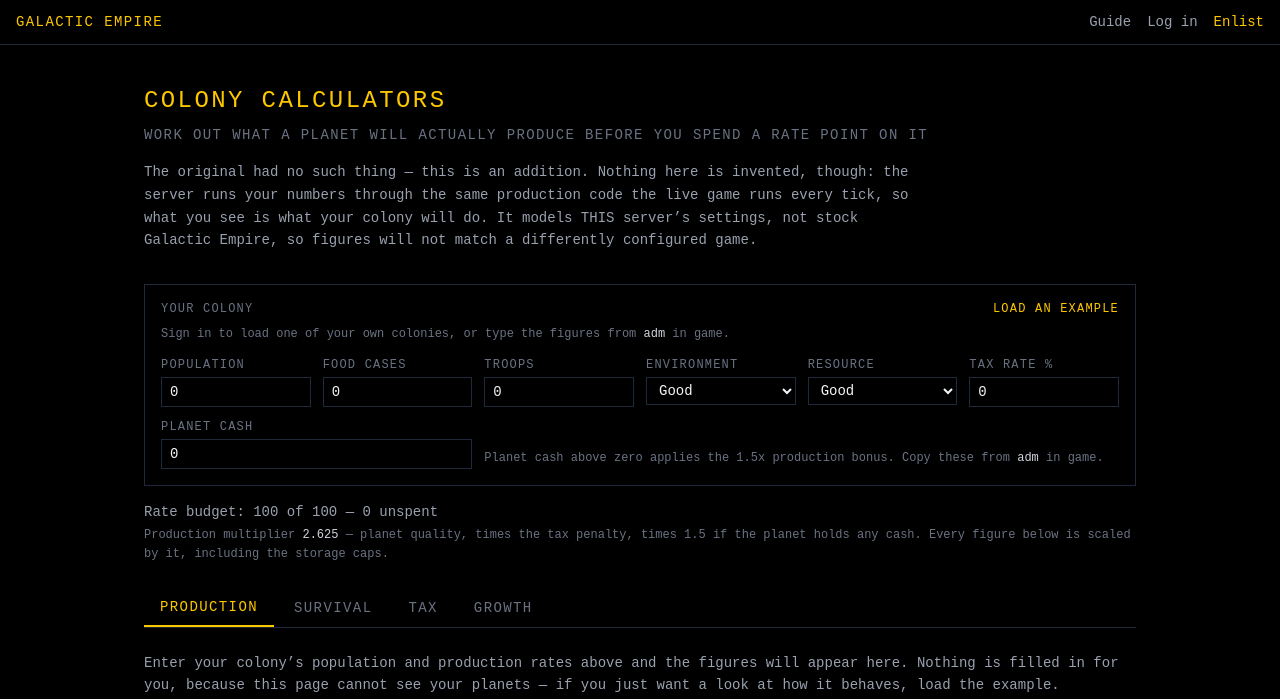
Scenario: Calculators › shows what a tick produces, in units and in credits
This screenshot has width=1280, height=699.
Expected: the text "Rate budget: 100 of 100 — 0 unspent" is shown, [144,504,438,520]
Click the button "Load an example" at (1056, 309), box [993,301,1119,317]
(page scrolled)
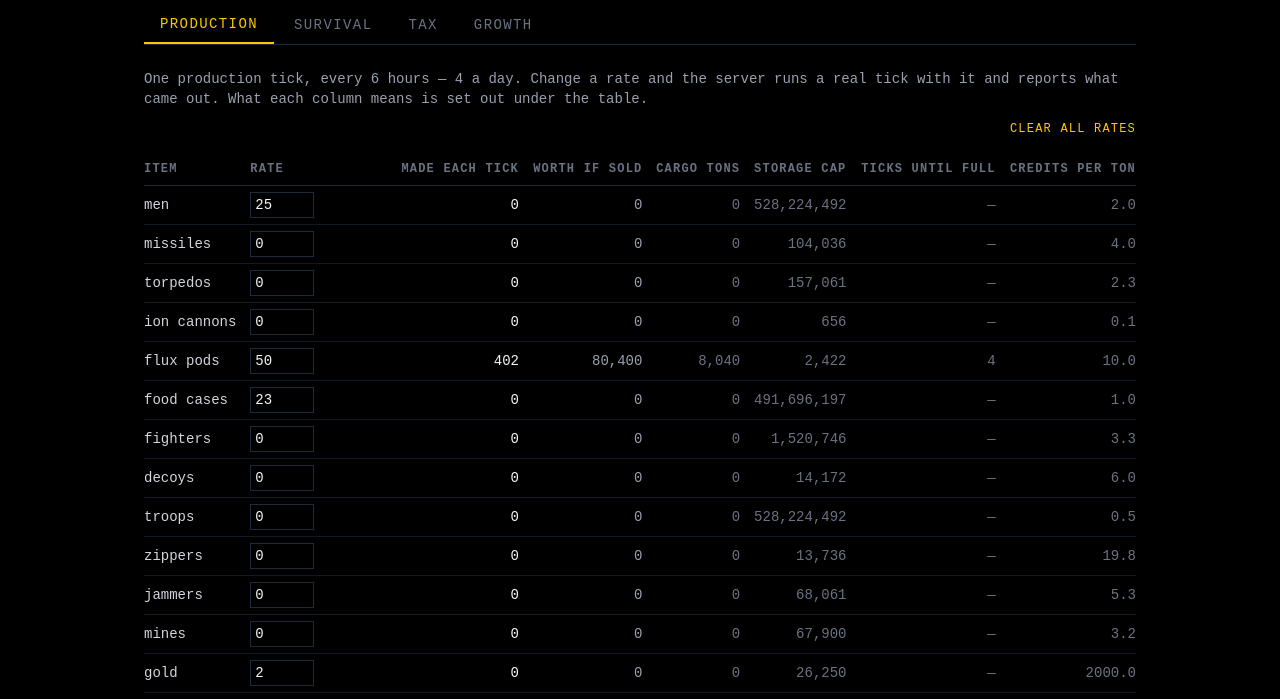
Result: the text with test id "empty-prompt" is gone
Result: the text "402" is shown at [399,341,531,380]
Result: the text "80,400" is shown at [531,341,654,380]
